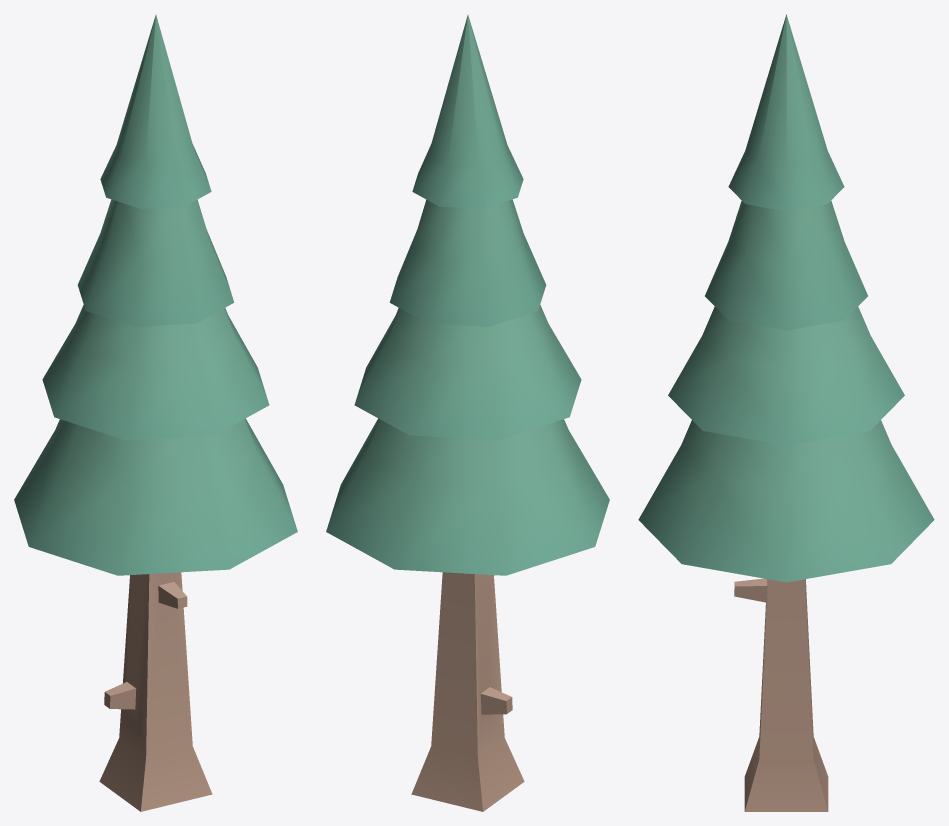
Rendered from tree-high.glb.
The picture shows the model from 3 angles, left to right: view 1: azimuth 30°, elevation 25°; view 2: azimuth 150°, elevation 25°; view 3: azimuth 270°, elevation 25°; orthographic projection.
Visible parts, largest first — view 1: tree-high; view 2: tree-high; view 3: tree-high.
Part boxes in pixels (bbox=[...]): tree-high: bbox=[14, 15, 297, 811]; tree-high: bbox=[326, 15, 609, 811]; tree-high: bbox=[638, 14, 934, 811].
Bounding box in the file's own units: 1.02 × 2.97 × 1.02.
